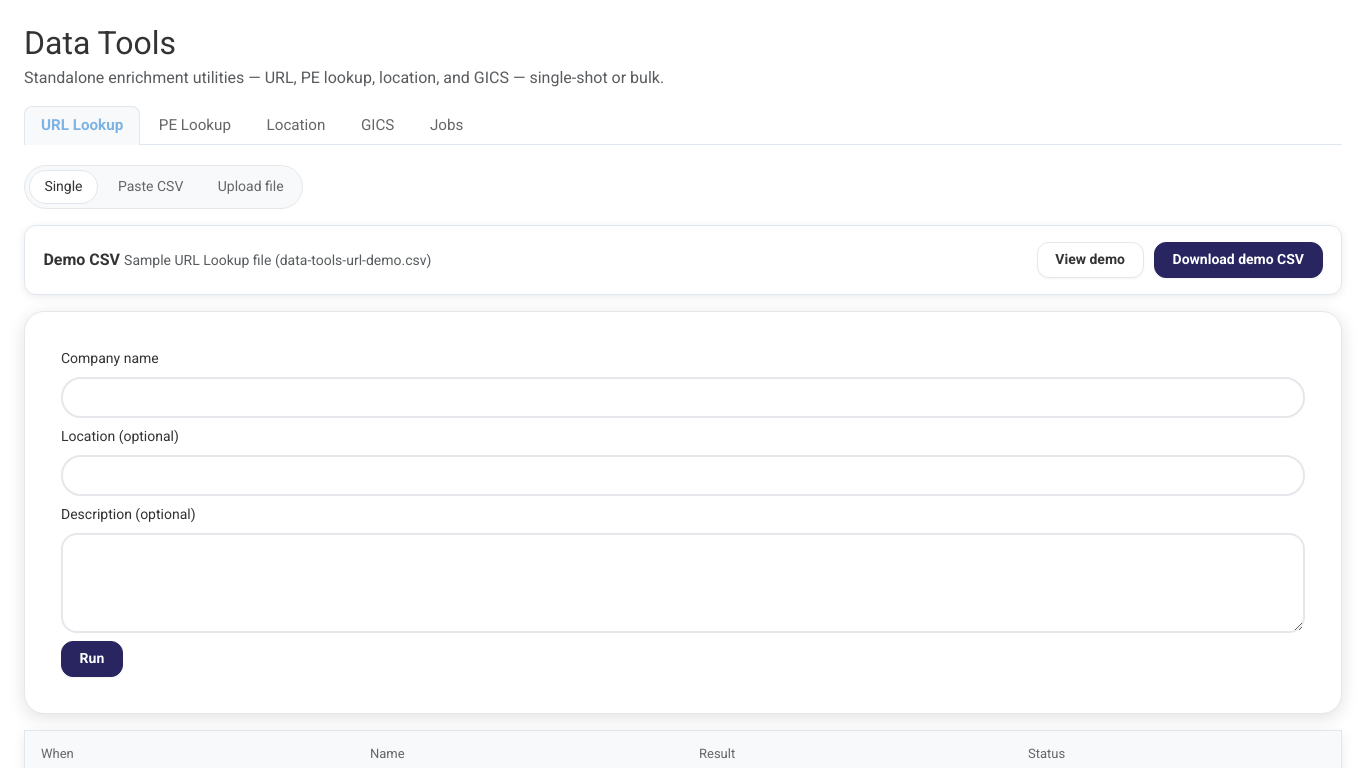
Test case: PEDataToolsPage › can view and download demo CSV for the active tool
This screenshot has width=1366, height=768.
Click the button with test id "demo-csv-view". click: (1090, 260)
box: [1037,242,1144,278]
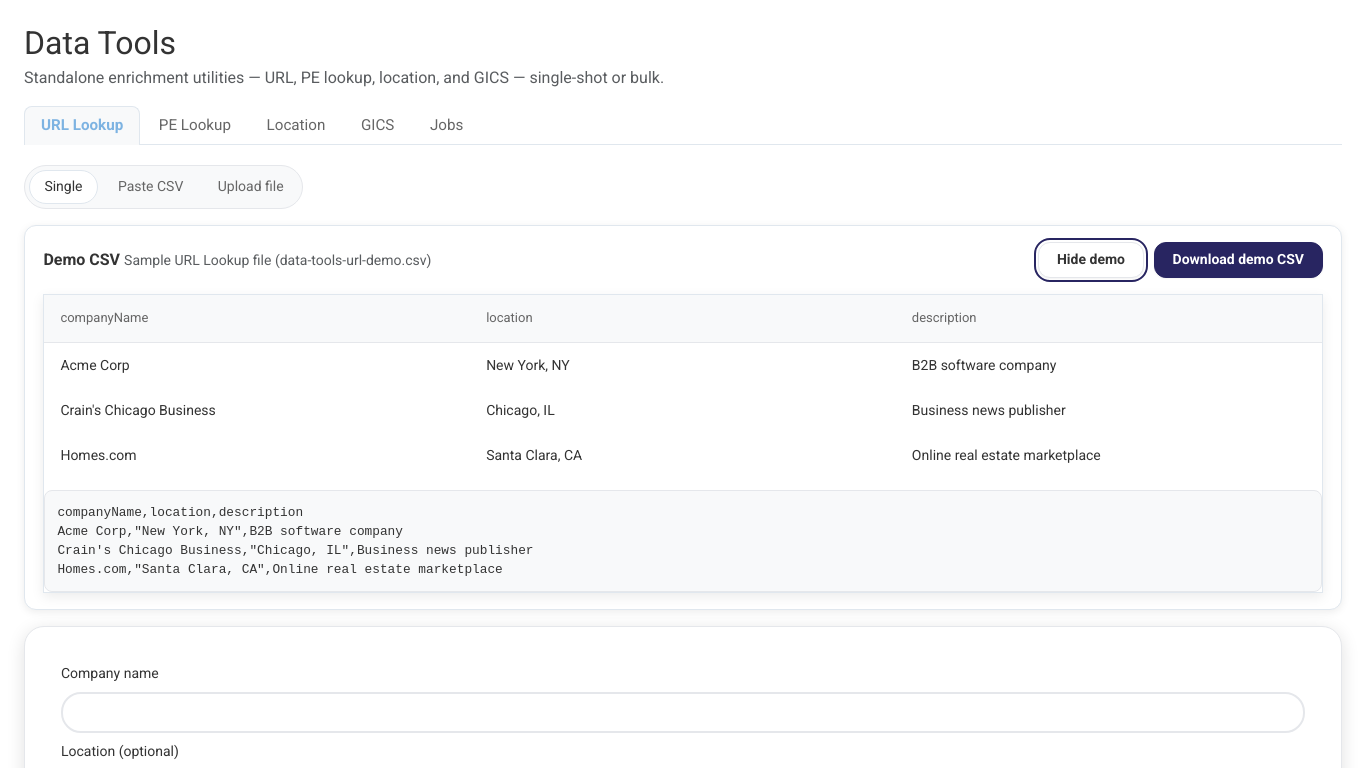
Expected: the button with test id "demo-csv-download" is shown, [1154,242,1323,278]
Now the text with test id "demo-csv-raw" shows "companyName,location,description", box [57,505,534,577]
